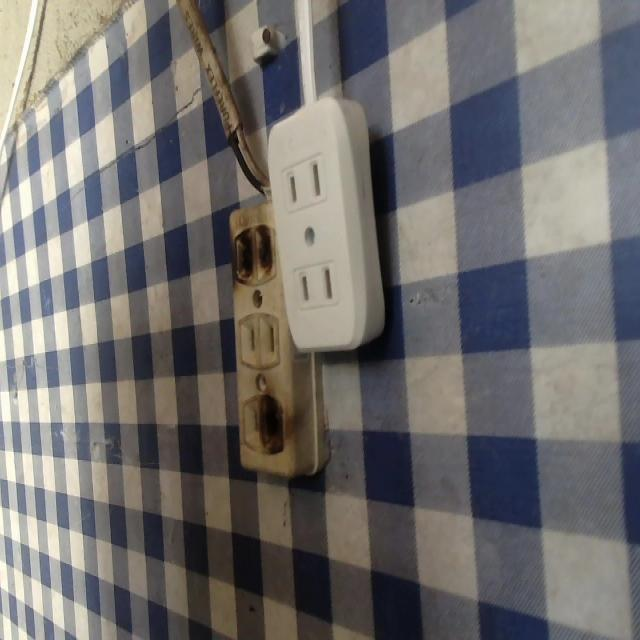-: (232, 224, 278, 289), (257, 391, 288, 456)
